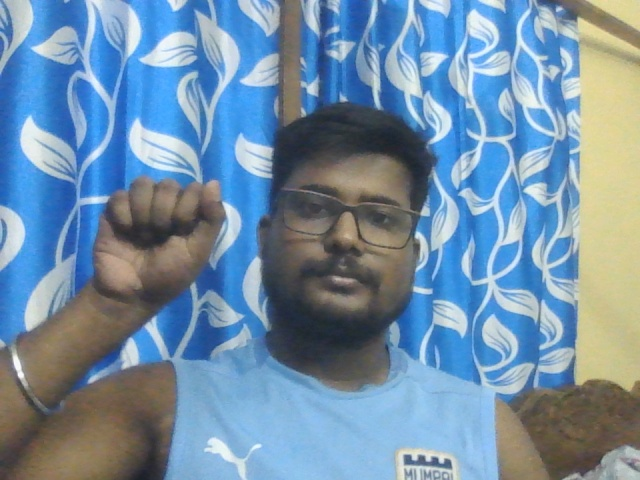A: (93, 176, 229, 296)
